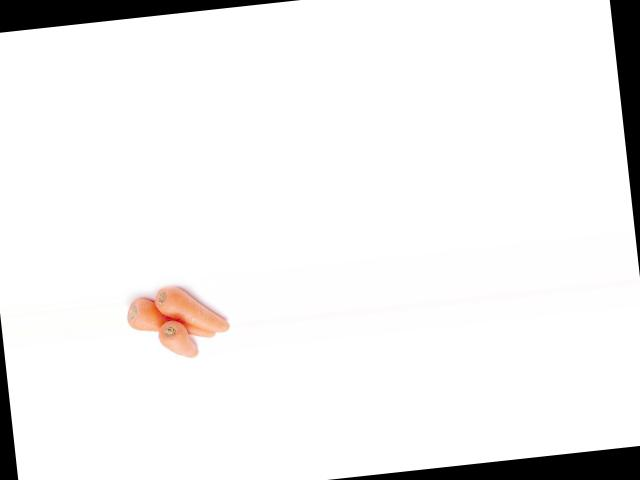carrot: (123, 287, 225, 347)
